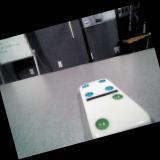domino: (80, 79, 150, 138)
